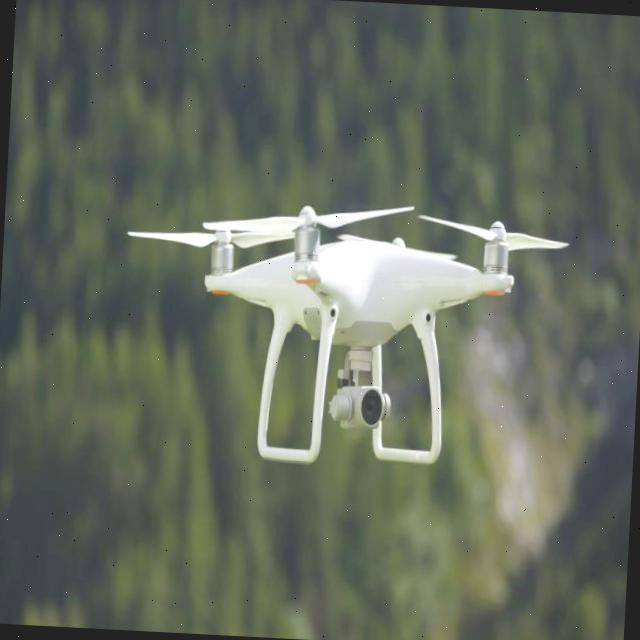drone: (107, 170, 594, 502)
